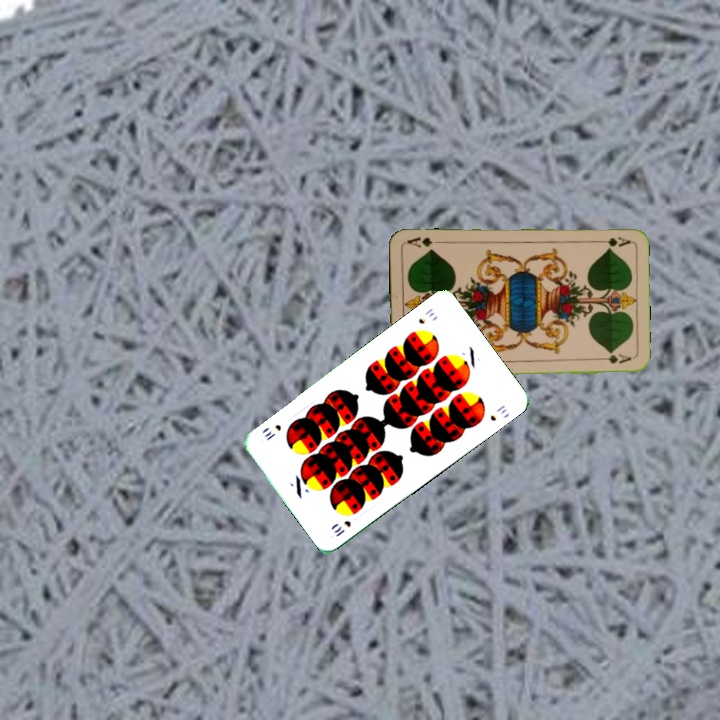GA: (592, 233, 633, 249)
S10: (330, 516, 354, 539), (414, 304, 437, 327)
